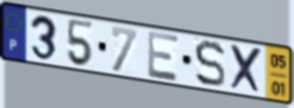3: (29, 12, 62, 63)
5: (66, 16, 95, 68)
7: (111, 25, 141, 74)
E: (146, 29, 181, 84)
S: (193, 39, 227, 89)
X: (229, 42, 265, 97)
